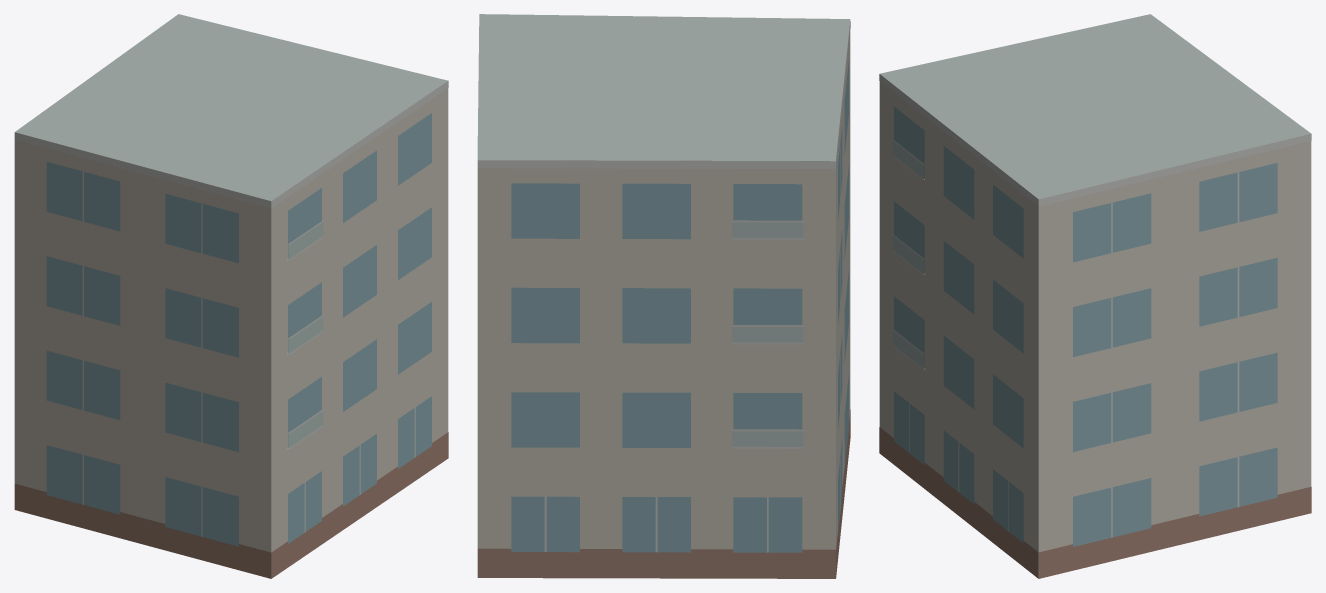
File: survey-upis-33004192.glb
3 views of the same model, side by side, from view 1: azimuth 30°, elevation 25°; view 2: azimuth 150°, elevation 25°; view 3: azimuth 270°, elevation 25° (orthographic). The views are drawn at different scales.
Parts seen in each view (by area): view 1: survey-upis-33004192.tmp; view 2: survey-upis-33004192.tmp; view 3: survey-upis-33004192.tmp.
Boxes of the visible parts, box(x1,y1,x2,y2) form: survey-upis-33004192.tmp: box(14, 14, 448, 578); survey-upis-33004192.tmp: box(477, 14, 850, 578); survey-upis-33004192.tmp: box(879, 14, 1311, 578).
Size of the model in its own units: 13.42 by 12.8 by 13.22.
